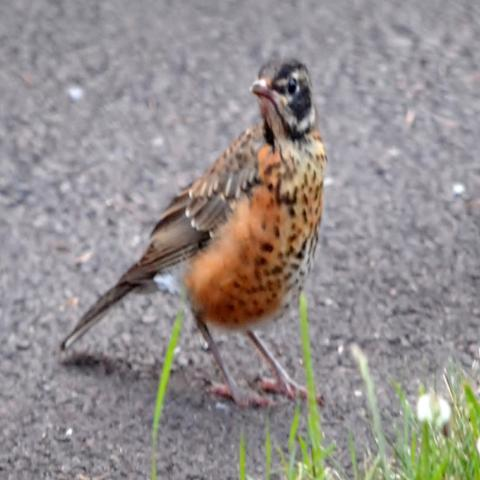bird: (59, 54, 328, 410)
